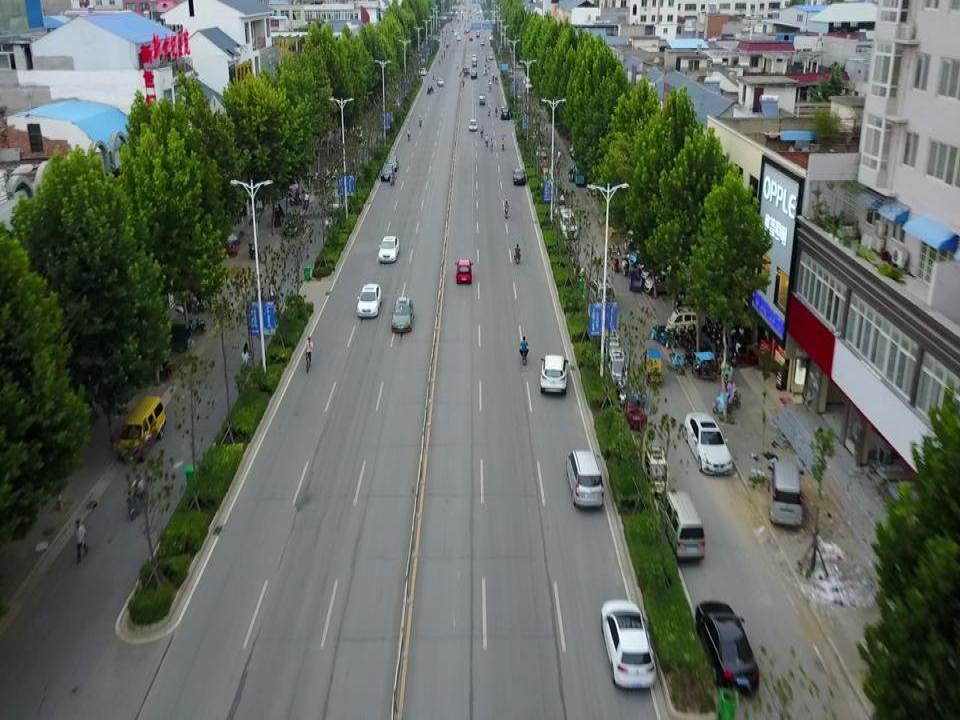car: (696, 597, 760, 696), (601, 598, 659, 690), (681, 409, 733, 476), (540, 352, 568, 395), (357, 283, 382, 317), (392, 298, 413, 334), (609, 349, 627, 390), (379, 234, 397, 262), (455, 260, 473, 284), (380, 164, 393, 183), (512, 168, 525, 185), (386, 156, 398, 172)
van: (116, 393, 166, 462), (660, 488, 705, 561), (768, 458, 803, 530), (566, 450, 605, 509), (643, 447, 669, 500), (158, 324, 191, 352), (558, 208, 578, 239), (576, 170, 586, 186)
